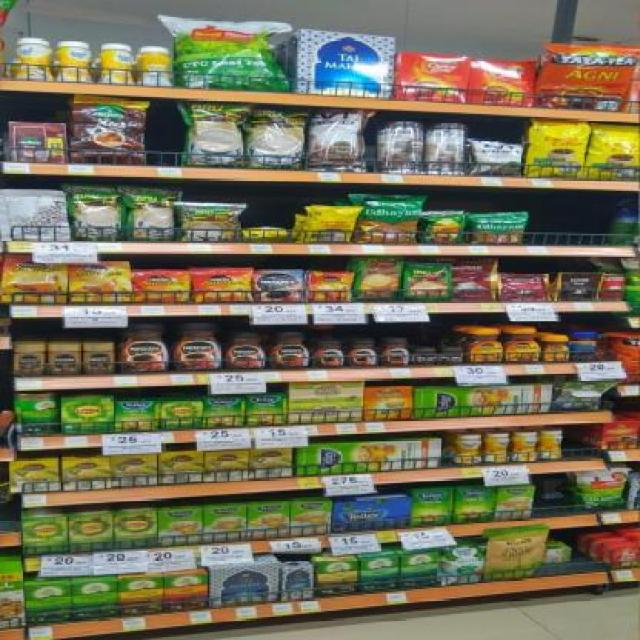Coffee: (3, 256, 68, 304), (70, 262, 132, 303), (173, 323, 222, 371), (120, 325, 168, 373), (192, 268, 251, 302), (135, 270, 190, 302), (253, 270, 302, 302), (226, 333, 268, 370), (269, 332, 309, 368), (504, 329, 539, 363), (468, 330, 503, 362), (48, 344, 78, 376), (83, 343, 112, 374), (15, 345, 43, 377), (380, 339, 410, 367), (315, 340, 345, 368), (347, 339, 378, 366), (543, 336, 569, 362), (415, 348, 439, 364), (441, 348, 464, 363)
